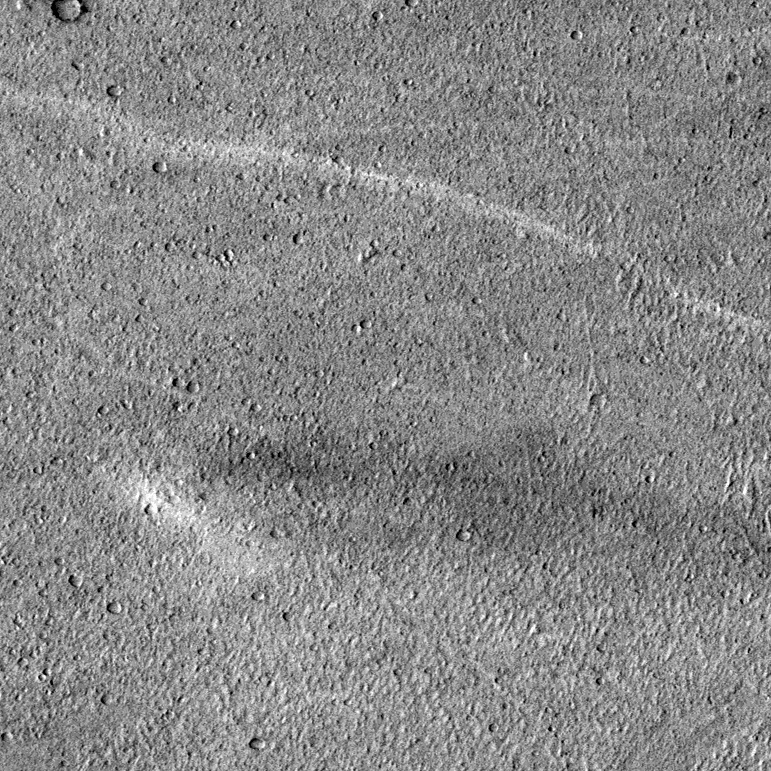dust_devil: (133, 423, 589, 581)
